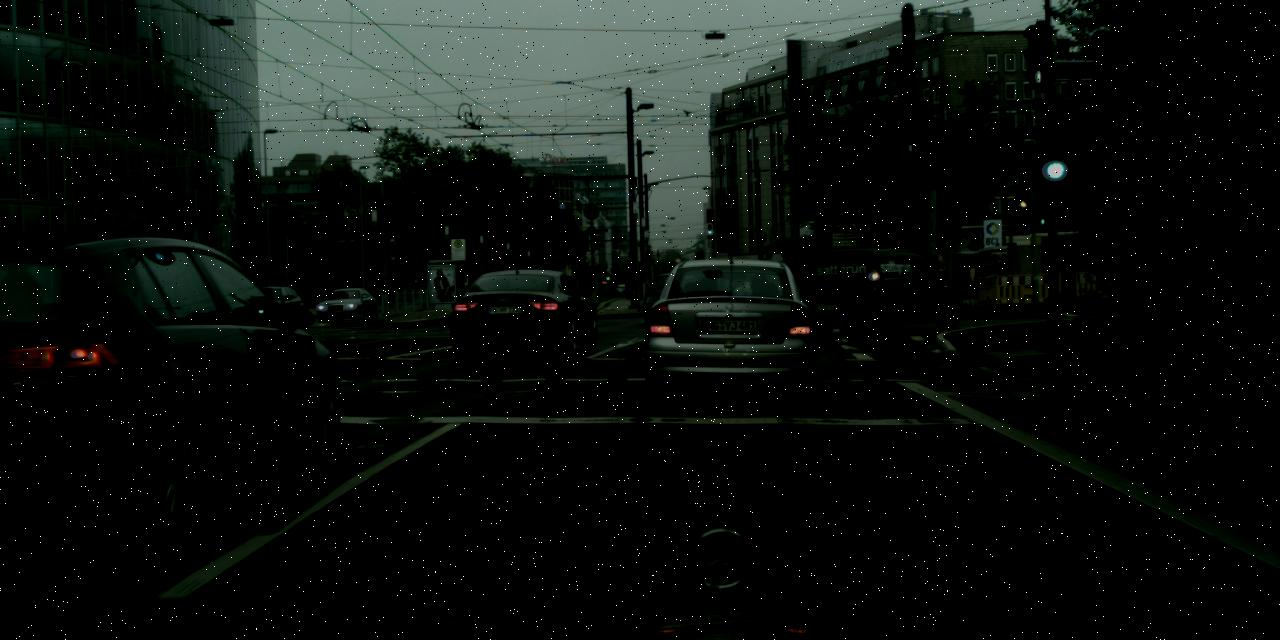ped: (622, 274, 632, 298)
